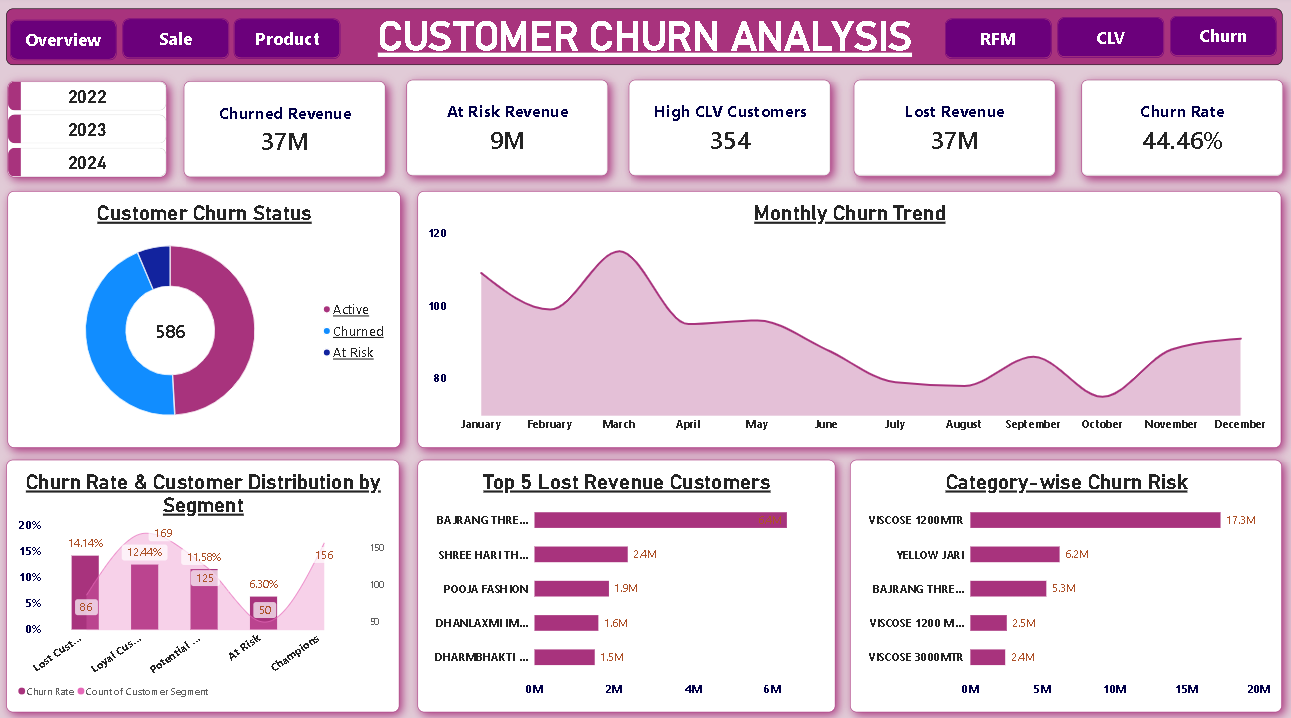

This screenshot's page, from the dashboard's own definition file:
{"tool":"powerbi","page":{"name":"CHURN","canvas":[1920,1080],"ordinal":6},"visuals":[{"type":"textbox","title":" CUSTOMER CHURN ANALYSIS","box":[9.2,18.3,1896,84],"z":0},{"type":"donutChart","title":"Customer Churn Status","fields":{"Category":["RFM_Customer.Churn Status"],"Y":["CountNonNull(RFM_Customer.Customer Name)"]},"box":[10.3,288.8,583.8,381.6],"z":1000},{"type":"cardVisual","fields":{"Data":["RFM_Customer.Churned Revenue"]},"box":[272.3,125.8,300,143],"z":2000},{"type":"cardVisual","fields":{"Data":["RFM_Customer.At Risk Revenue"]},"box":[603.5,124.7,300,143],"z":3000},{"type":"cardVisual","fields":{"Data":["RFM_Customer.High CLV Customers"]},"box":[933.6,124.7,300,143],"z":4000},{"type":"cardVisual","title":"total","fields":{"Data":["RFM_Customer.Lost Revenue"]},"box":[1267.5,124.7,300,143.6],"z":5000},{"type":"cardVisual","fields":{"Data":["RFM_Customer.Churn Rate"]},"box":[1605.7,124.5,300,143.6],"z":6000},{"type":"advancedSlicerVisual","fields":{"Values":["Master_Data.Bill Date.Variation.Date Hierarchy.Year"]},"box":[10.9,125.5,237,143],"z":7000},{"type":"lineChart","title":"Monthly Churn Trend","fields":{"Category":["Master_Data.Bill Date.Variation.Date Hierarchy.Month"],"Y":["RFM_Customer.Monthly Churned Customers"]},"box":[620.9,288.8,1283,381.6],"z":8000},{"type":"clusteredBarChart","title":"Top 5 Lost Revenue Customers","fields":{"Category":["RFM_Customer.Customer Name"],"Y":["Sum(RFM_Customer.Monetary)"]},"box":[620.9,689,620.9,375.4],"z":9000},{"type":"clusteredBarChart","title":"Category-wise Churn Risk","fields":{"Category":["Master_Data.Product Category"],"Y":["Master_Data.Churn Risk Revenue"]},"box":[1262.4,689,641.5,375.4],"z":10000},{"type":"lineStackedColumnComboChart","title":"Churn Rate & Customer Distribution by Segment","fields":{"Category":["RFM_Customer.Customer Segment"],"Y":["RFM_Customer.Churn Rate"],"Y2":["CountNonNull(RFM_Customer.Customer Segment)"]},"box":[10,689,584,375],"z":11000},{"type":"actionButton","box":[1570.5,30.9,158.5,59.7],"z":11001},{"type":"actionButton","box":[1403.8,32.9,158.5,59.7],"z":11002},{"type":"actionButton","box":[1737.2,28.8,158.5,59.7],"z":11003},{"type":"actionButton","box":[14.4,35,158.5,59.7],"z":11004},{"type":"actionButton","box":[181.1,32.9,158.5,59.7],"z":11005},{"type":"actionButton","box":[347.9,32.9,158.5,59.7],"z":11006}]}

Visuals, with their boxes in screenshot pixels (x1, y1, x2, y2), scaled from the page's 1920x1080 canvas onto the 1291x718 screenshot:
" CUSTOMER CHURN ANALYSIS" textbox: x1=6 y1=12 x2=1281 y2=68
"Customer Churn Status" donutChart: x1=7 y1=192 x2=399 y2=446
cardVisual - RFM_Customer.Churned Revenue: x1=183 y1=84 x2=385 y2=179
cardVisual - RFM_Customer.At Risk Revenue: x1=406 y1=83 x2=608 y2=178
cardVisual - RFM_Customer.High CLV Customers: x1=628 y1=83 x2=829 y2=178
"total" cardVisual: x1=852 y1=83 x2=1054 y2=178
cardVisual - RFM_Customer.Churn Rate: x1=1080 y1=83 x2=1281 y2=178
advancedSlicerVisual - Master_Data.Bill Date.Variation.Date Hierarchy.Year: x1=7 y1=83 x2=167 y2=179
"Monthly Churn Trend" lineChart: x1=417 y1=192 x2=1280 y2=446
"Top 5 Lost Revenue Customers" clusteredBarChart: x1=417 y1=458 x2=835 y2=708
"Category-wise Churn Risk" clusteredBarChart: x1=849 y1=458 x2=1280 y2=708
"Churn Rate & Customer Distribution by Segment" lineStackedColumnComboChart: x1=7 y1=458 x2=399 y2=707
actionButton: x1=1056 y1=21 x2=1163 y2=60
actionButton: x1=944 y1=22 x2=1050 y2=62
actionButton: x1=1168 y1=19 x2=1275 y2=59
actionButton: x1=10 y1=23 x2=116 y2=63
actionButton: x1=122 y1=22 x2=228 y2=62
actionButton: x1=234 y1=22 x2=341 y2=62
